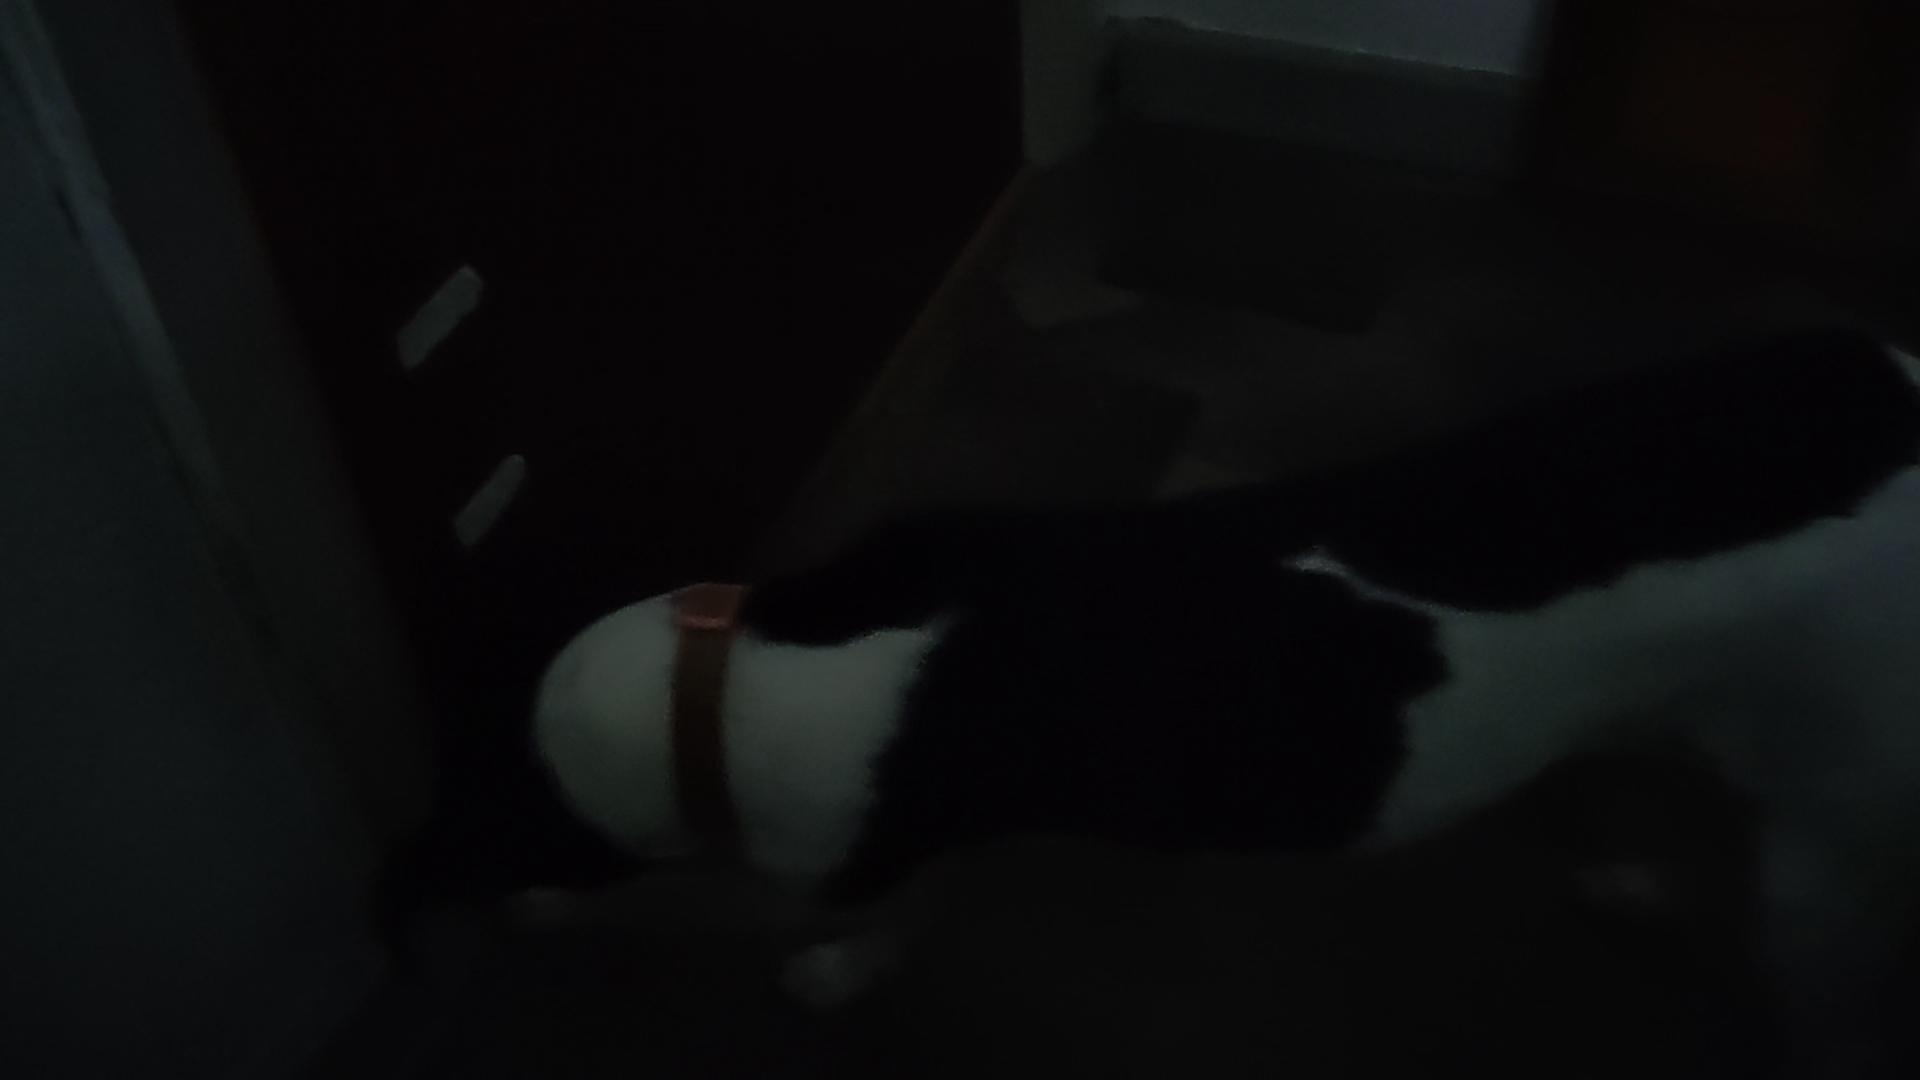Dog: (338, 305, 1919, 1079)
